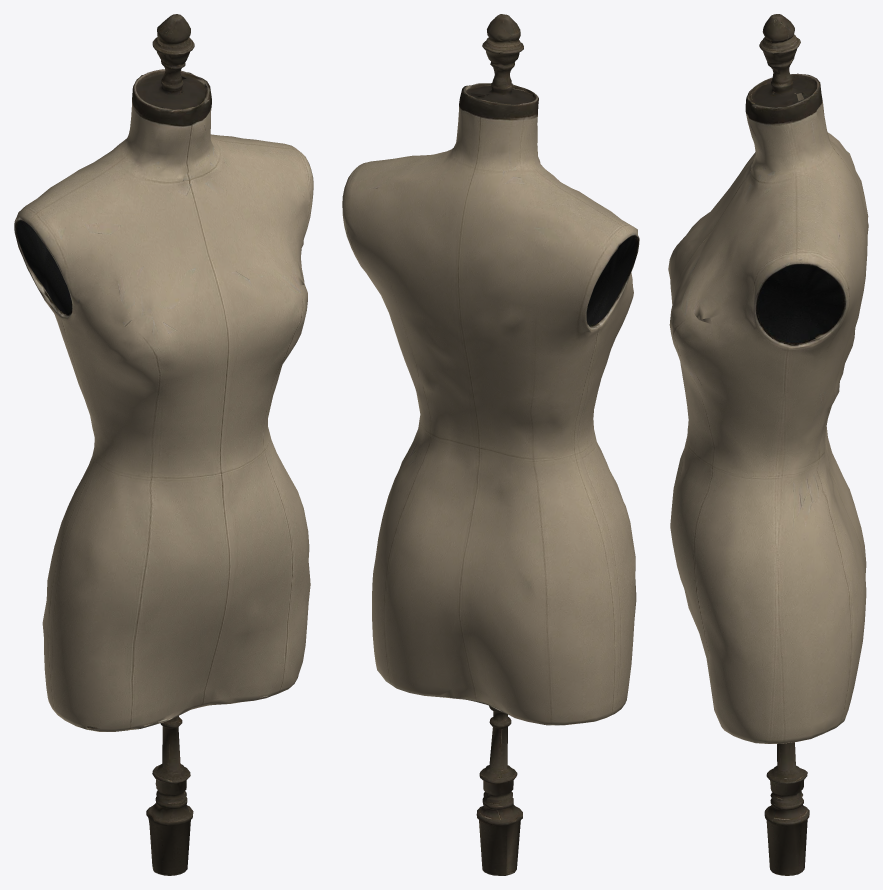
Rendered from dress_form.glb.
The picture shows the model from 3 angles, left to right: view 1: azimuth 30°, elevation 25°; view 2: azimuth 150°, elevation 25°; view 3: azimuth 270°, elevation 25°; orthographic projection.
Size of the model in its own units: 0.5385 by 1.6 by 0.3404.
Materials: 1 (1 with a texture image).
